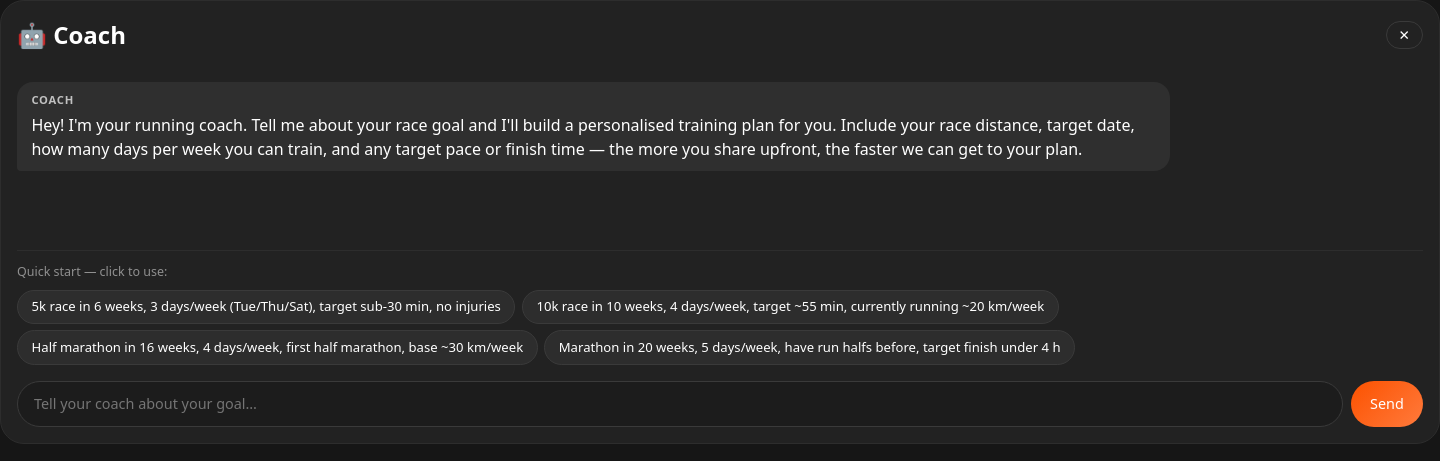
Test: CoachPlanWizard › displays the coach answer in a chat bubble after a response
Type "Hello" into the field with placeholder "Tell your coach about your goal…" at (680, 404), box [17,381,1343,427]
Then press Enter
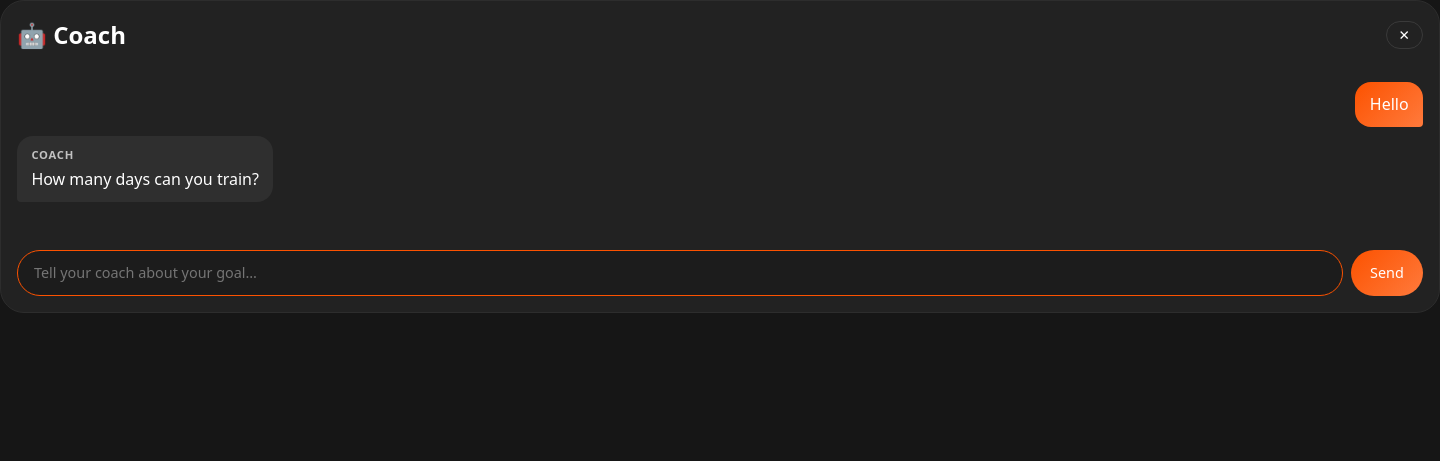
Expected: the text "How many days can you train?" is shown, [31,167,259,191]
